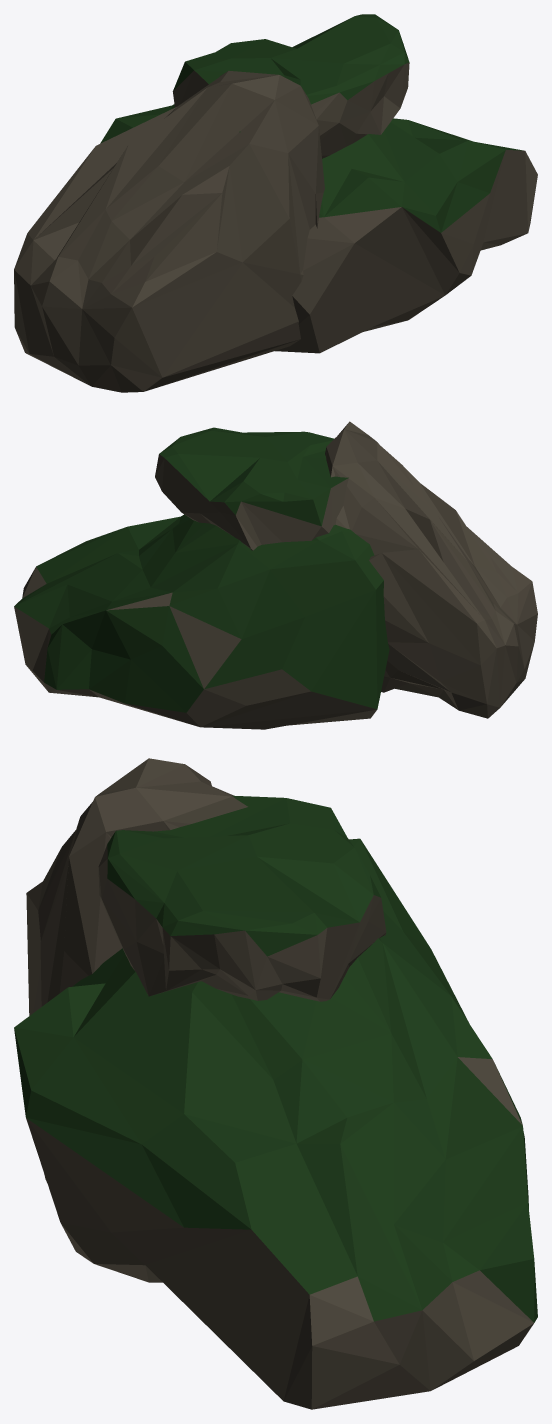
File: Island_Rock.FBX
3 renders of one model, top to bottom at view 1: azimuth 30°, elevation 25°; view 2: azimuth 150°, elevation 25°; view 3: azimuth 270°, elevation 25°, orthographic. The views are drawn at different scales.
Parts seen in each view (by area): view 1: Group64718, Group64717, Group64732; view 2: Group64717, Group64718, Group64732; view 3: Group64717, Group64732, Group64718.
Part boxes in pixels (x1,y1,x2,y2): Group64718: (14,71,324,392); Group64717: (100,104,537,353); Group64732: (172,14,409,158); Group64717: (14,514,389,729); Group64718: (325,421,537,718); Group64732: (155,427,348,550); Group64717: (14,838,537,1409); Group64732: (98,795,386,1001); Group64718: (26,758,247,1015).
Size of the model in its own units: 8403 by 4094 by 4751.
